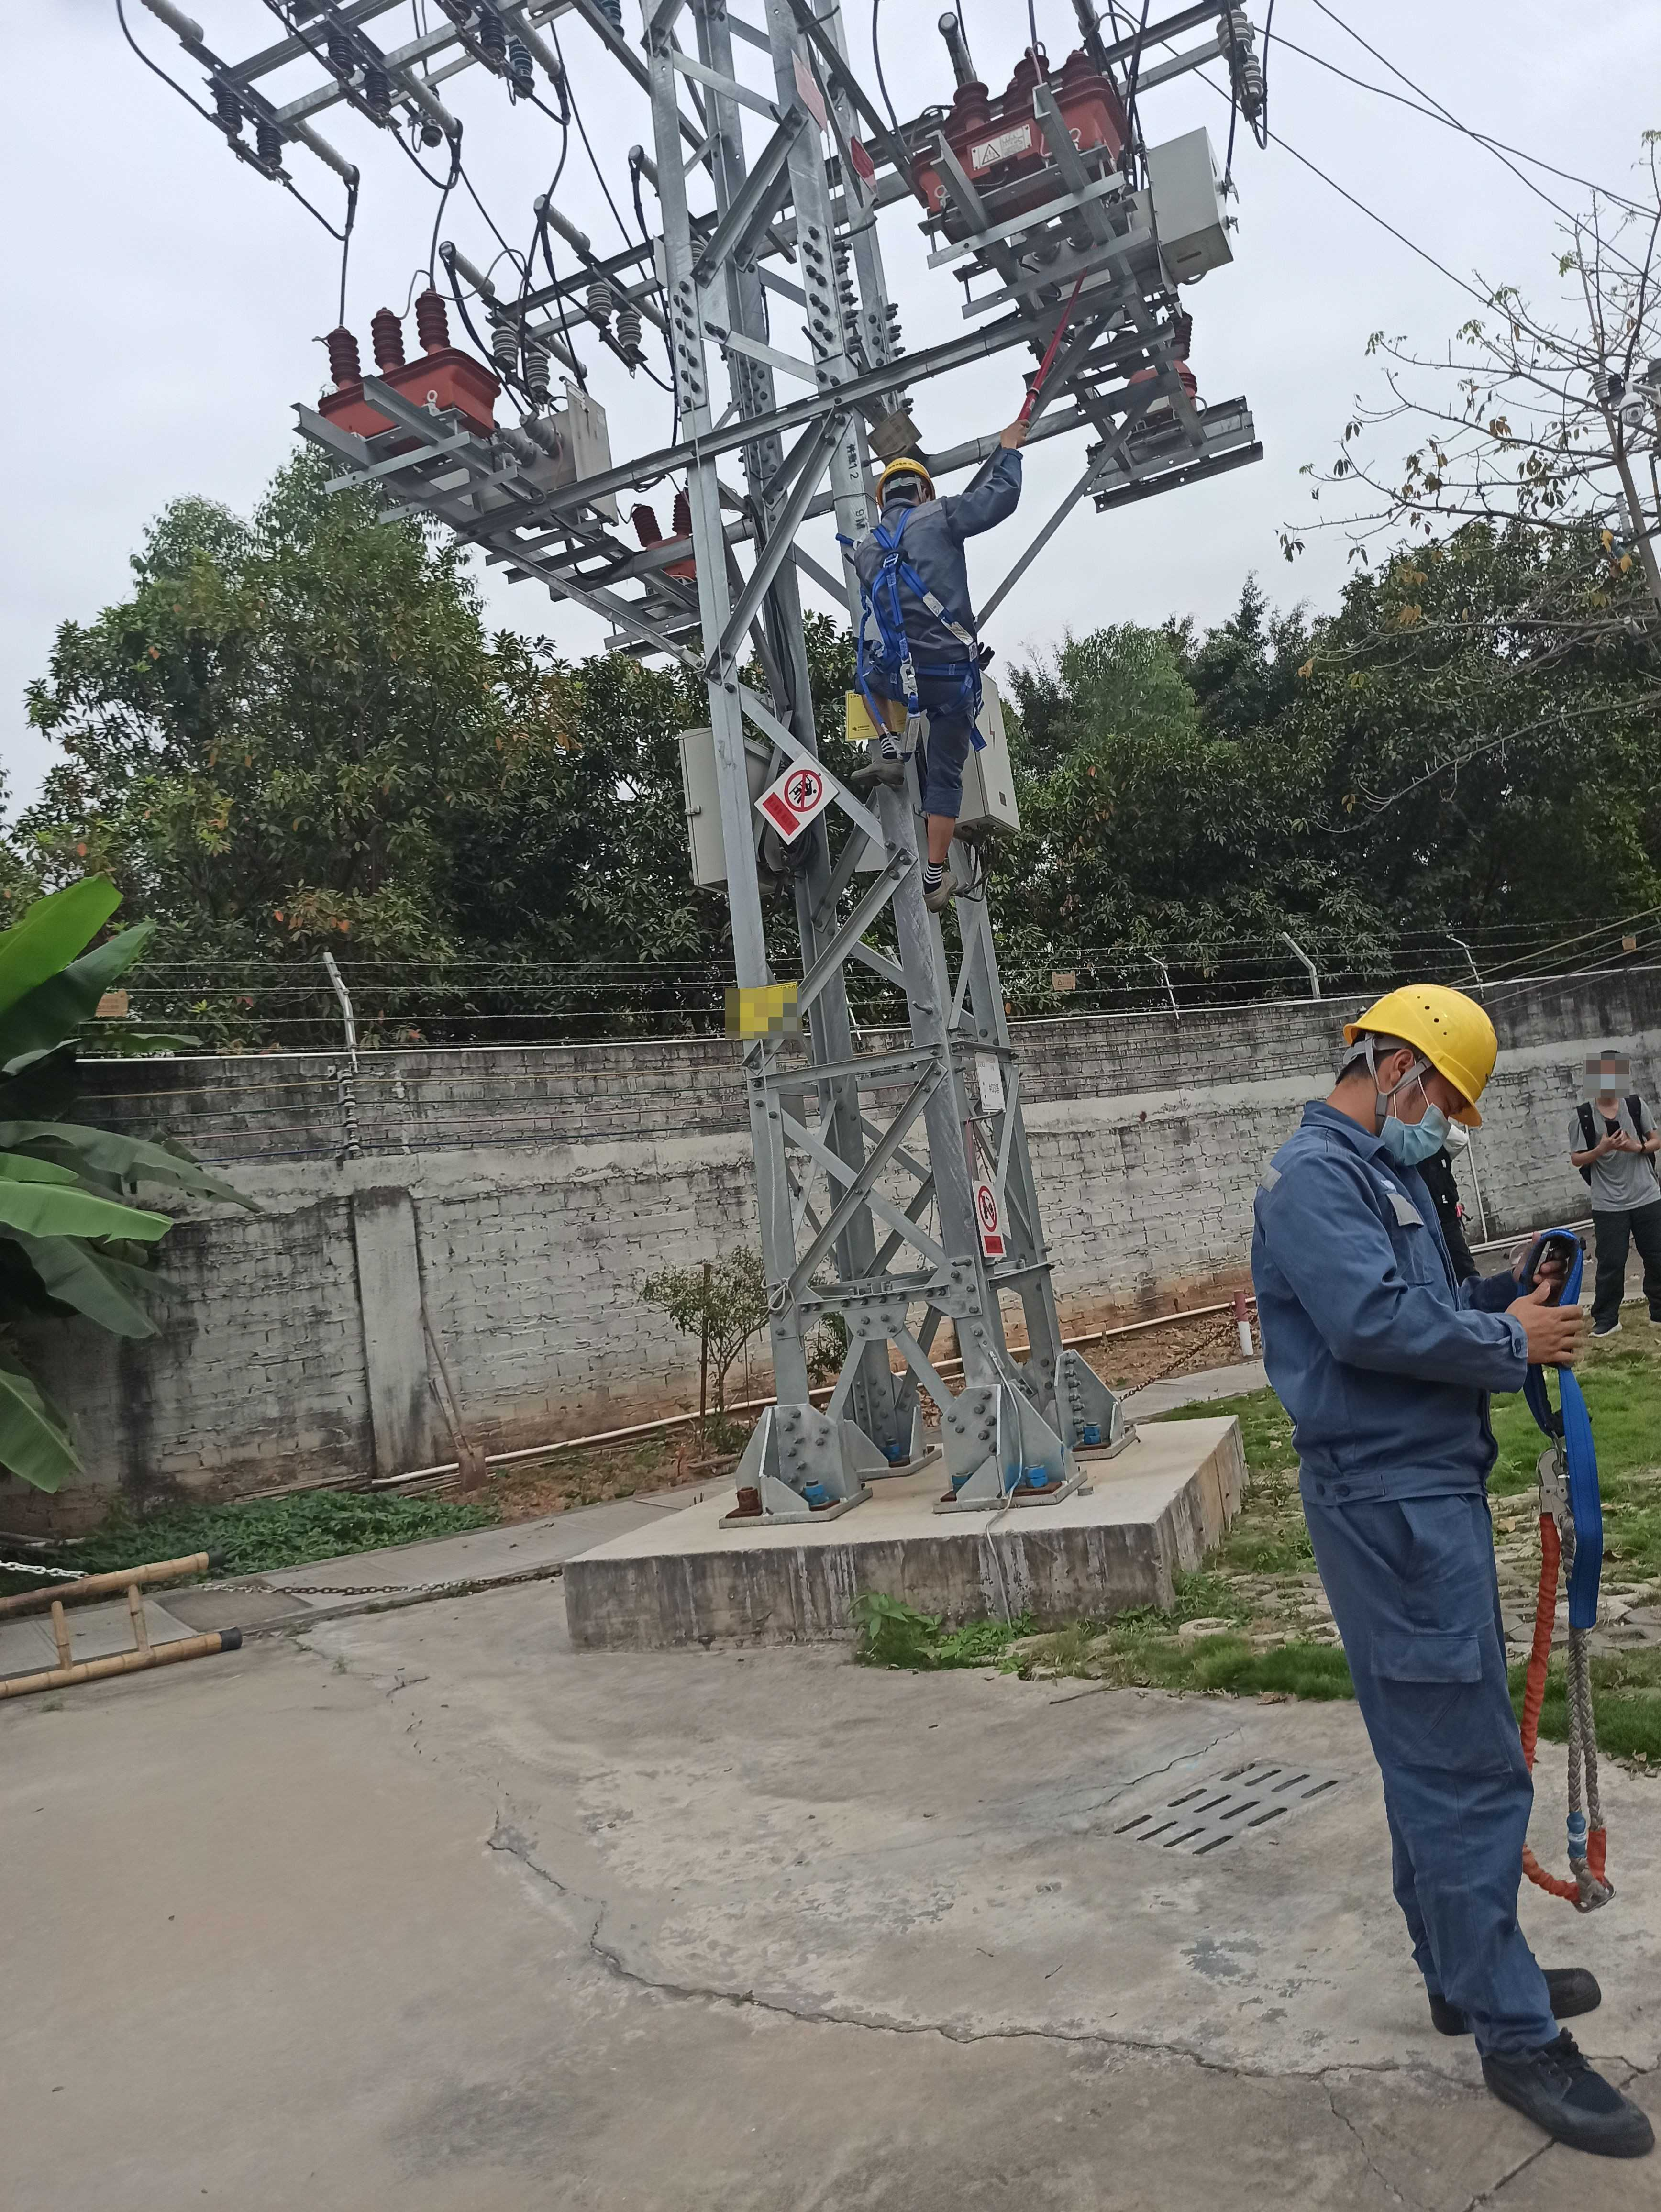downcloth: (1595, 1219, 1661, 1331)
downsuit: (1307, 1523, 1556, 2031), (858, 666, 972, 876)
upcloth: (1569, 1106, 1659, 1209)
upsuit: (1268, 1132, 1481, 1500), (851, 509, 984, 666)
wrongbottom: (919, 768, 967, 884), (862, 670, 900, 759)
